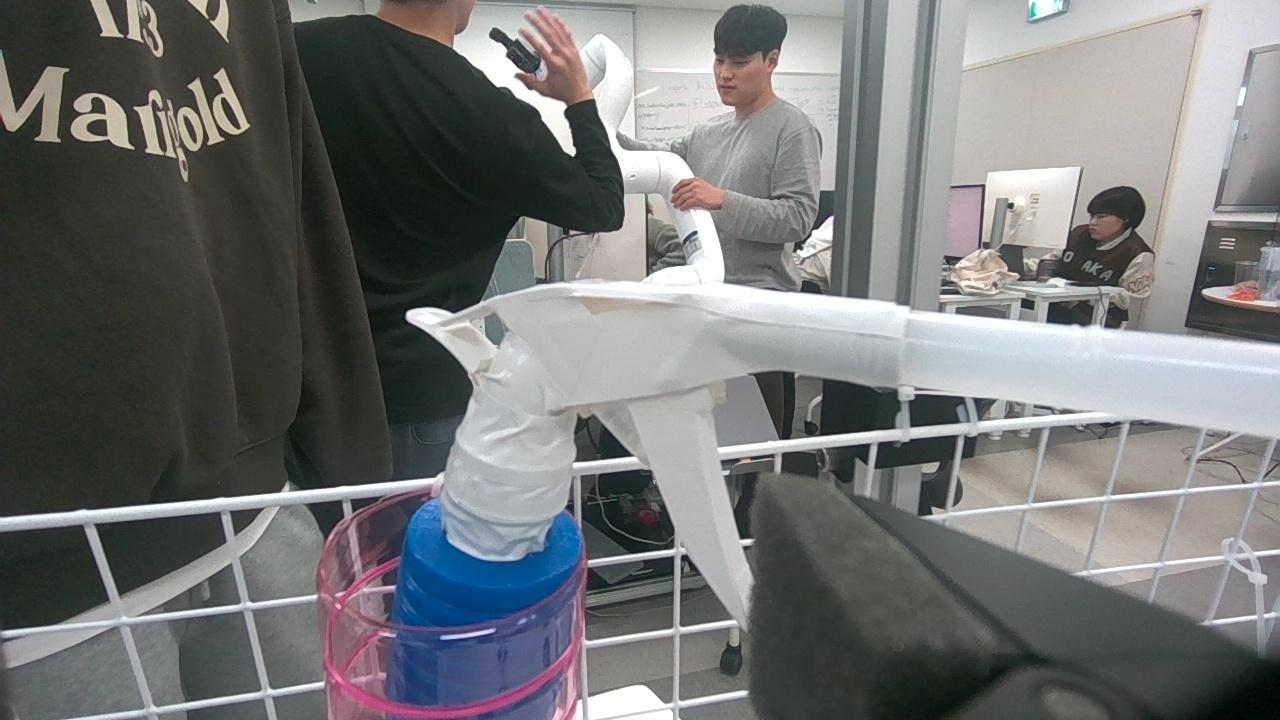Nozzle: (395, 274, 916, 720)
